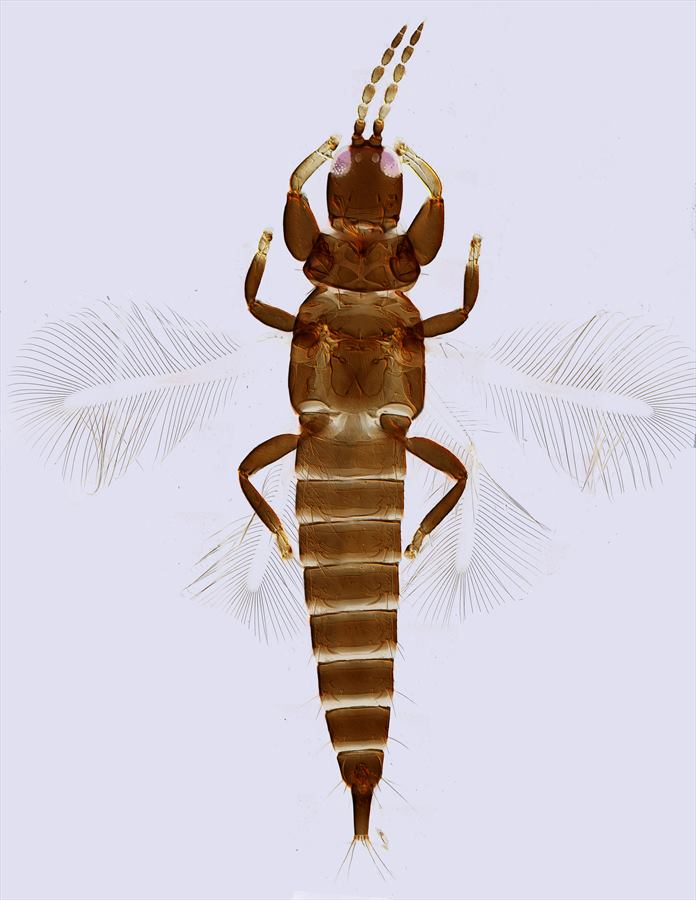Phlaeothripidae: (4, 20, 696, 867)
